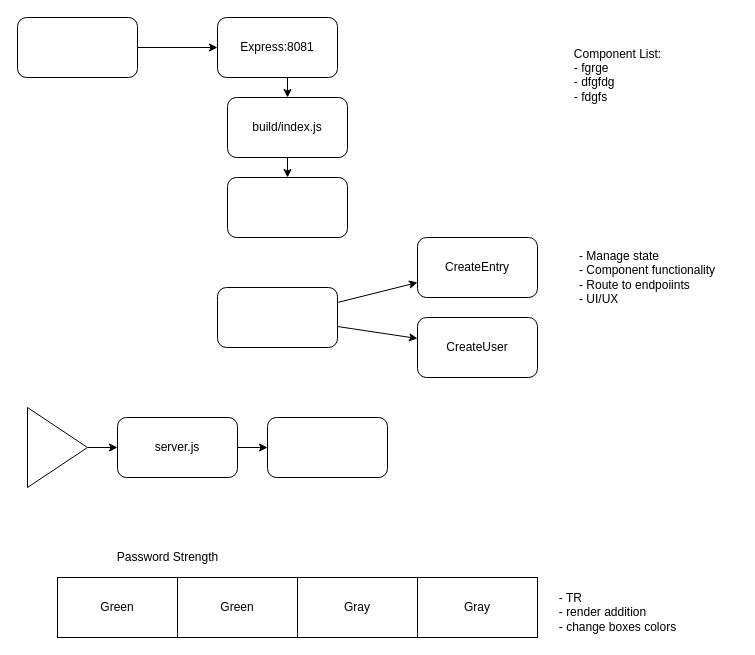
Some shapes in this 755 by 655 pixel diagram are drawn without their labels. The shapes that lost their labels are listed below. From the top down, each one's centre as x and y in pixels, then its label:
At point 77,47: "Node:3000".
At point 287,207: "App --> index.html".
At point 277,317: "App.jsx".
At point 57,447: "fetch".
At point 327,447: "controllers (???) endpoints for diff functionality ???".
